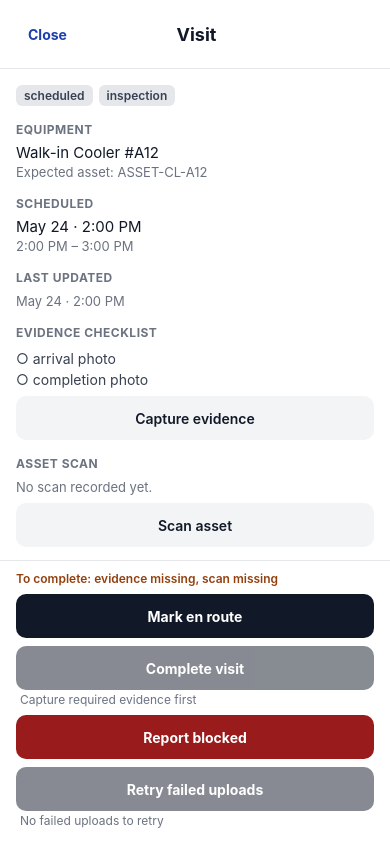
VisitDetailSheet › Capture evidence opens the camera inline panel
What coordinates should you click on to do the following:
click the button labelled "Capture evidence"
I would click on:
 (195, 418)
Its box is [16,396,374,440].
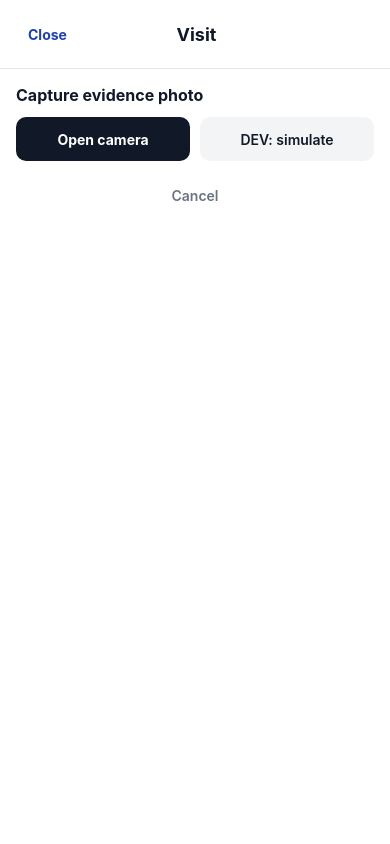
expect the text "Capture evidence photo" is shown: met, box [16,85,203,105]
